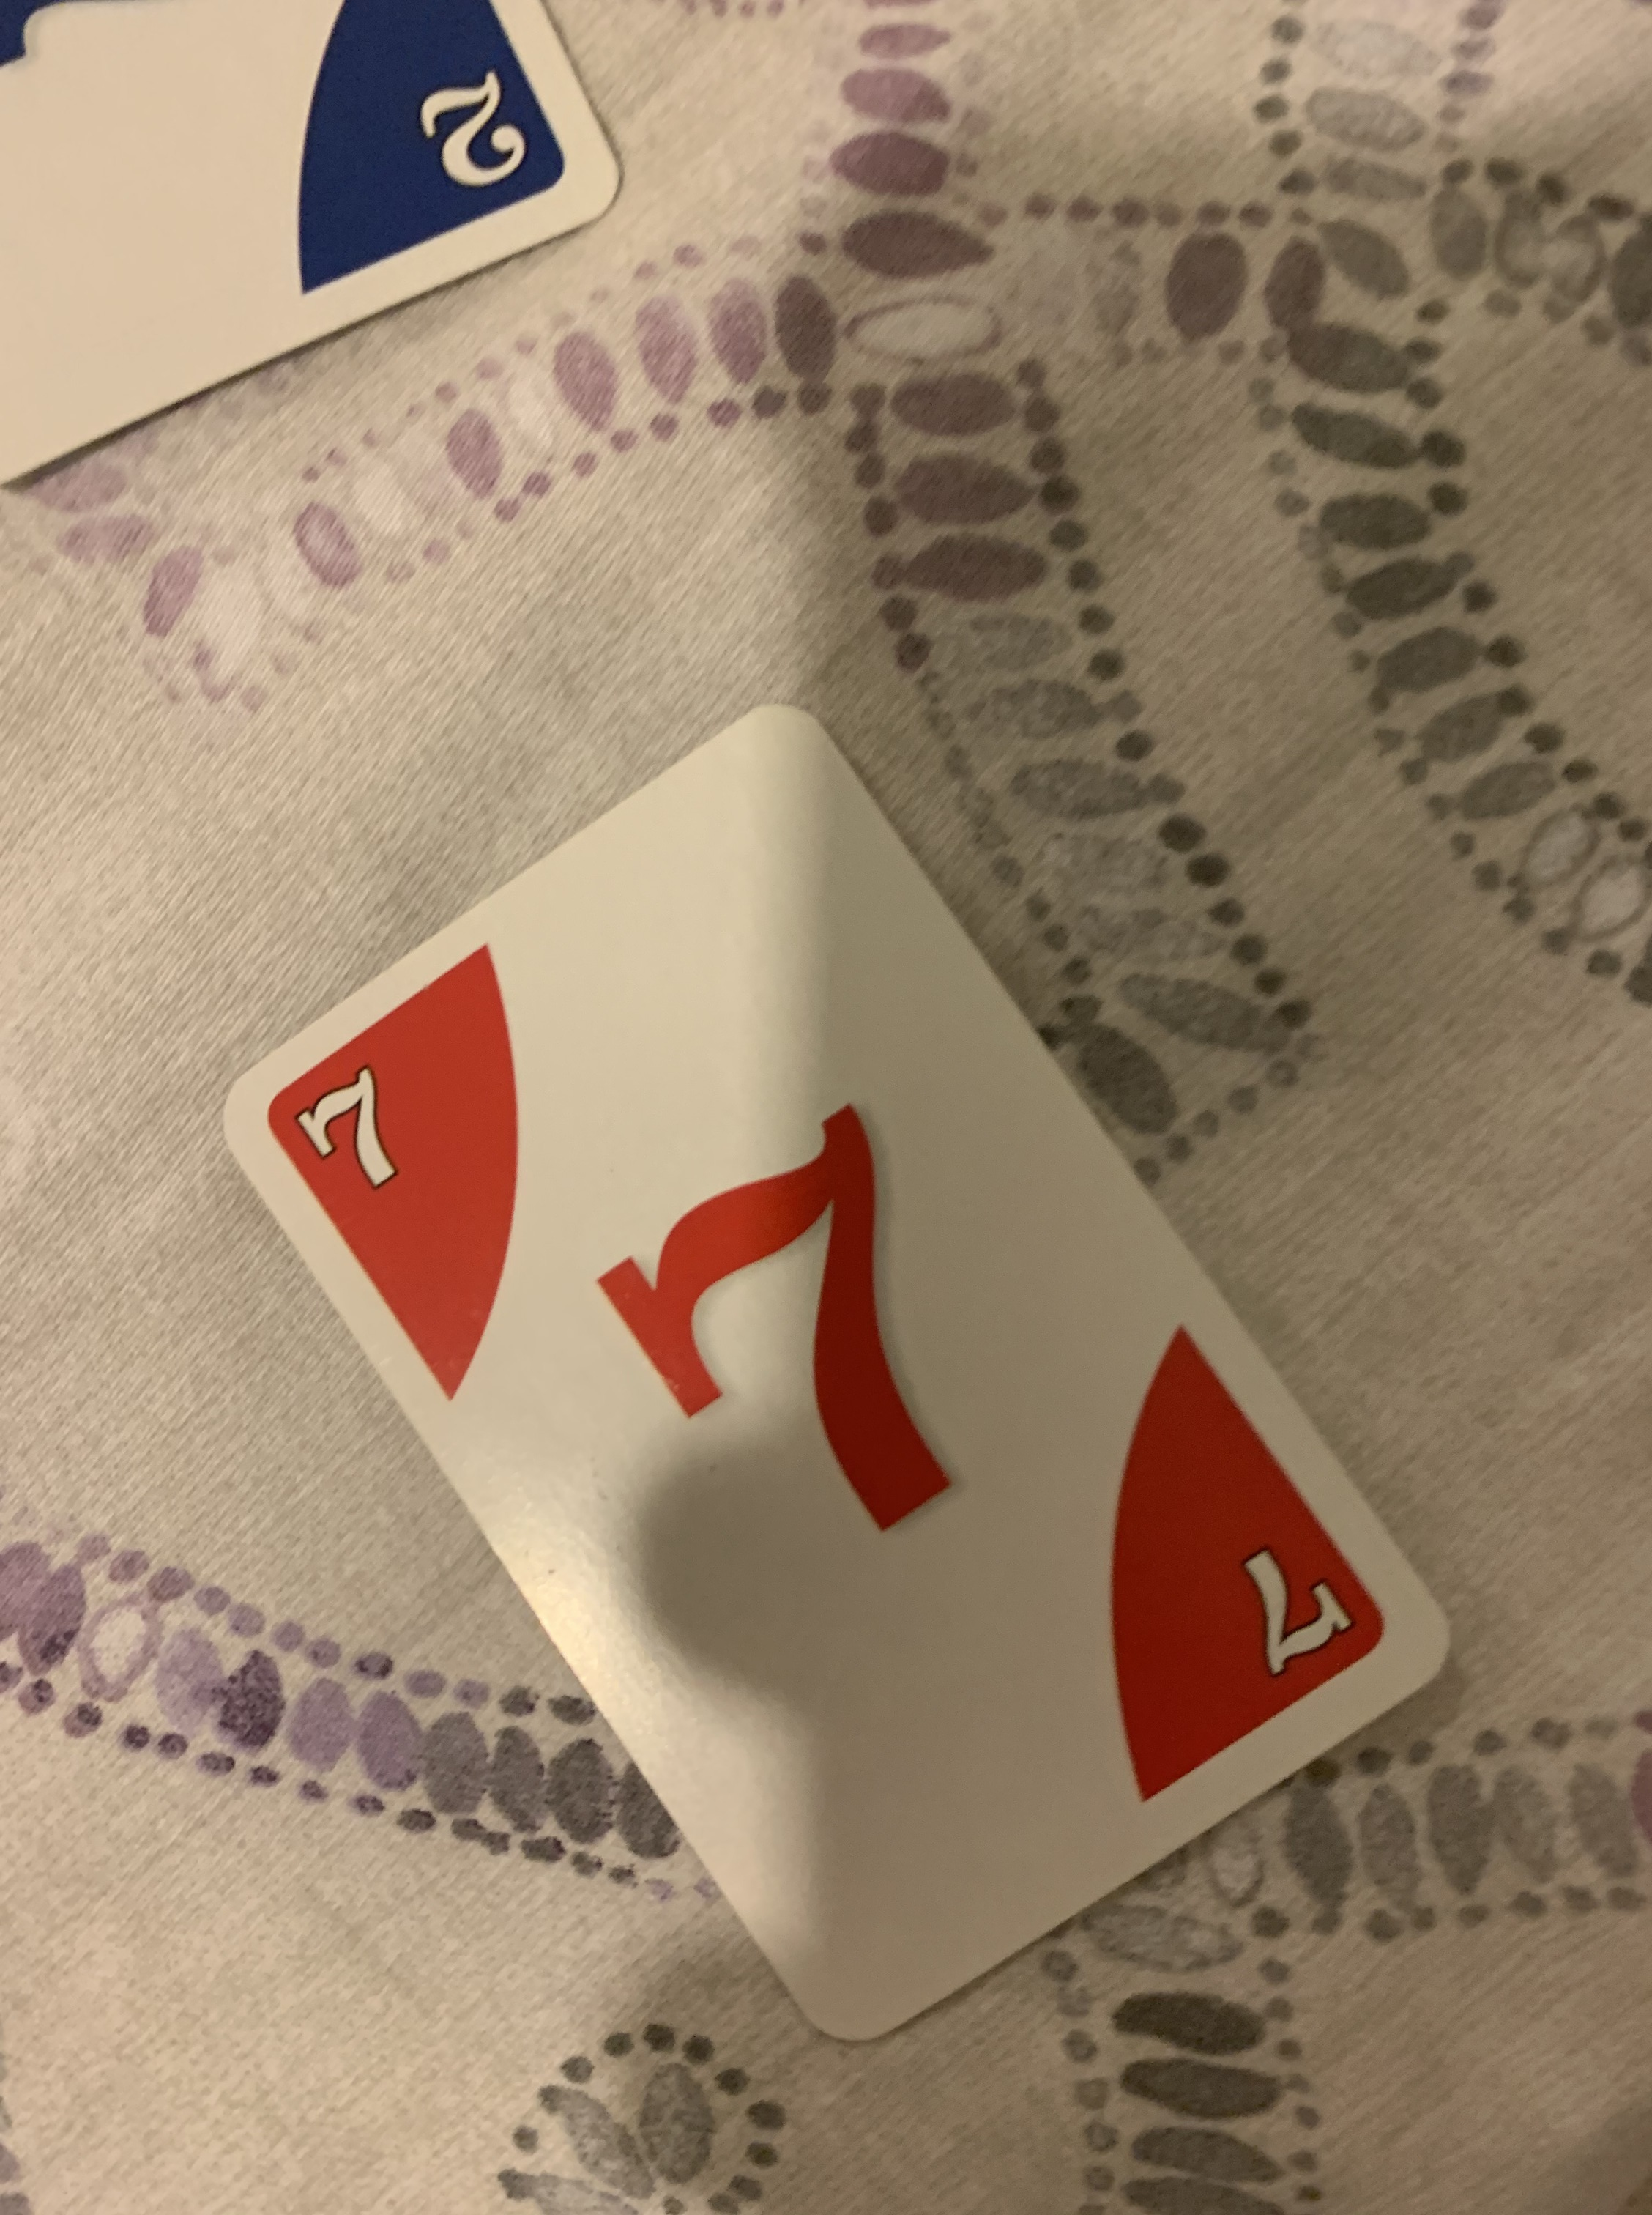seven: (215, 693, 1445, 2047)
